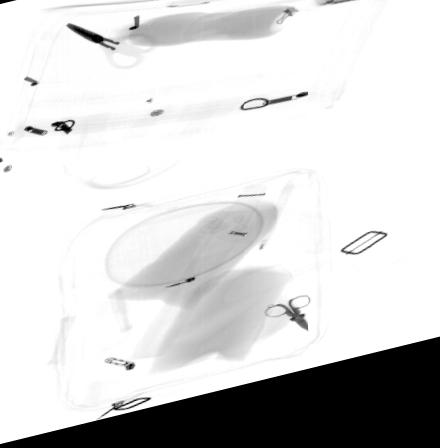Scissors: (65, 26, 153, 71), (261, 310, 312, 346)
